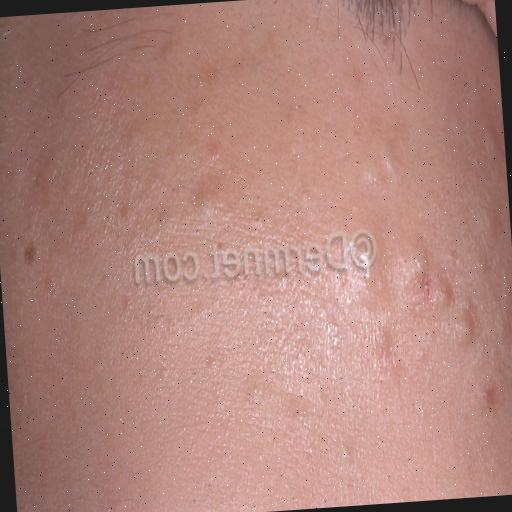Skin_Lesion: (183, 188, 269, 243), (391, 250, 454, 310), (346, 132, 400, 200), (368, 312, 412, 394), (444, 302, 484, 350), (14, 224, 46, 278), (110, 190, 140, 238), (470, 376, 500, 418), (330, 426, 360, 468), (198, 148, 230, 170)
